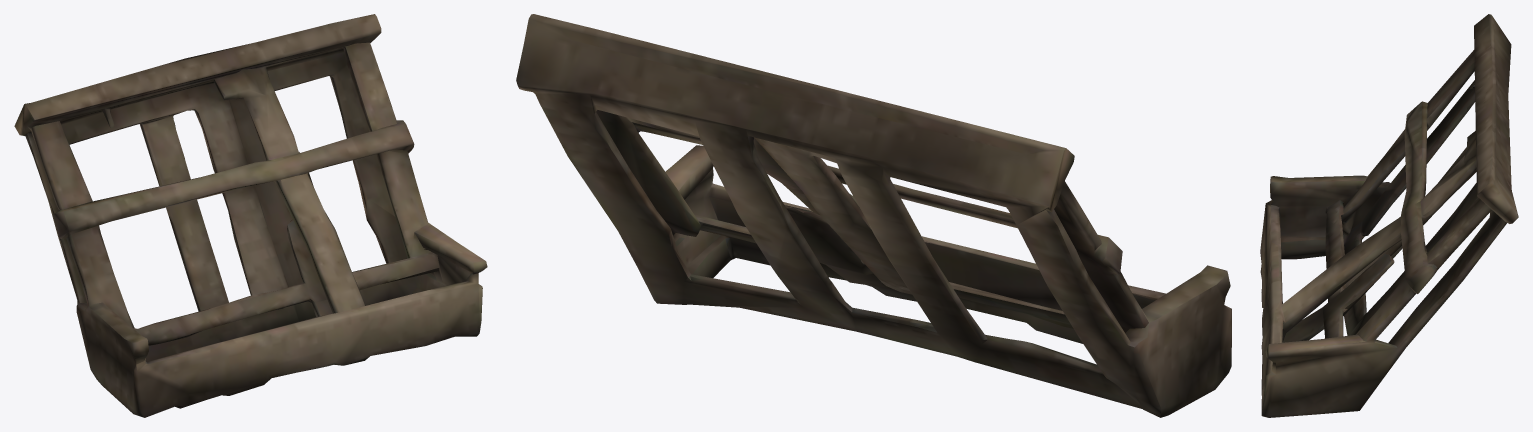
The model's file is chipped-wood-crate-v001.glb.
3 views of the same model, side by side, from view 1: azimuth 30°, elevation 25°; view 2: azimuth 150°, elevation 25°; view 3: azimuth 270°, elevation 25° (orthographic). The views are drawn at different scales.
Visible parts, largest first — view 1: chipped-wood-crate; view 2: chipped-wood-crate; view 3: chipped-wood-crate.
Boxes of the visible parts, x1,y1,x2,y2 form: chipped-wood-crate: [14, 14, 487, 417]; chipped-wood-crate: [516, 14, 1231, 417]; chipped-wood-crate: [1260, 14, 1518, 417].
Size of the model in its own units: 0.8766 by 0.5685 by 0.5489.
1 material, 1 textured.
